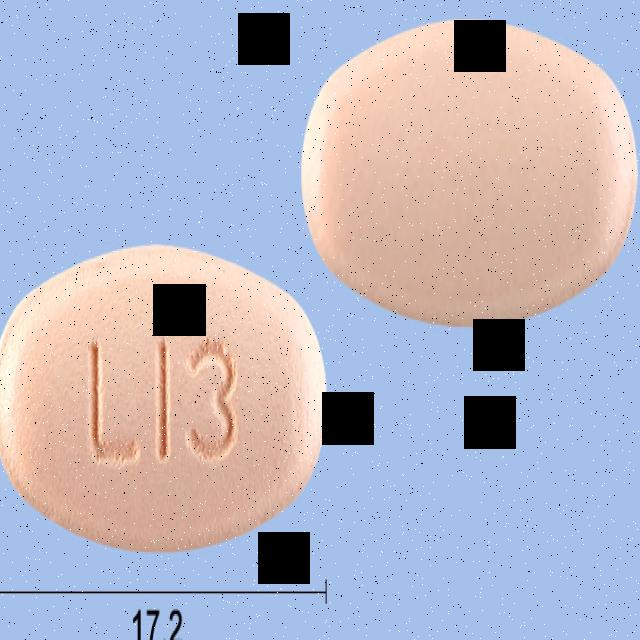Levoable: (0, 244, 327, 550)
